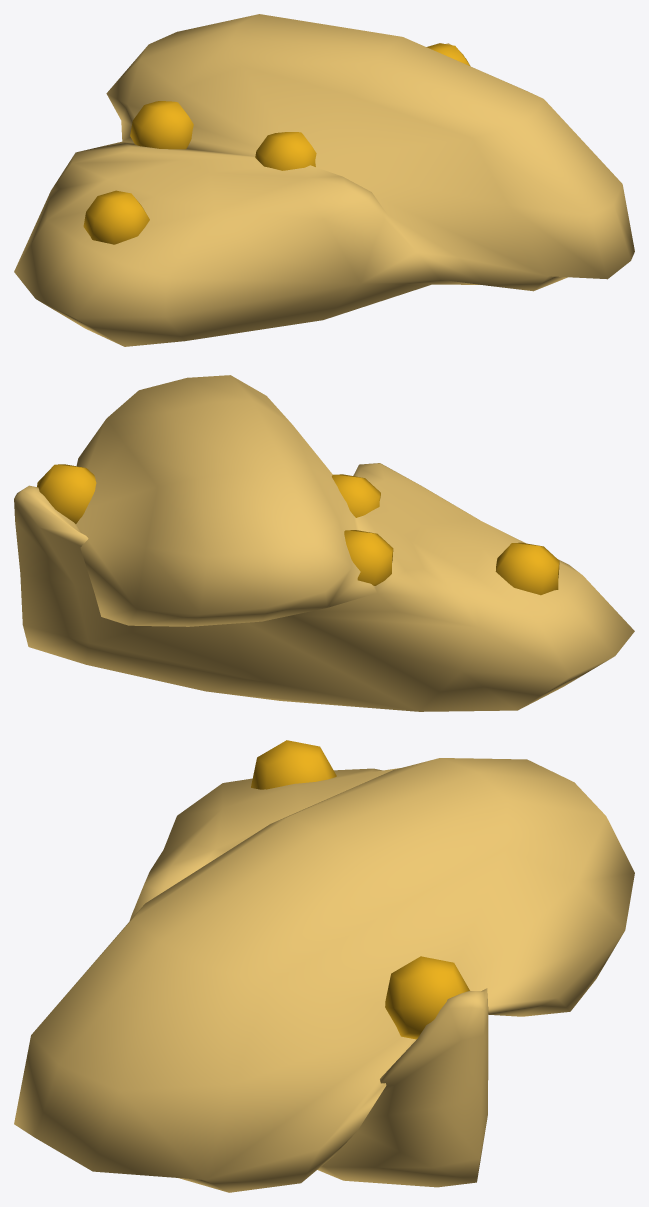
Rendered from rancidTallow.glb.
3 views of the same model, one above another, from view 1: azimuth 30°, elevation 25°; view 2: azimuth 150°, elevation 25°; view 3: azimuth 270°, elevation 25° (orthographic). The views are drawn at different scales.
Parts seen in each view (by area): view 1: Tallow, Cube.003, Cube.001, Cube; view 2: Tallow, Cube.003, Cube.002, Cube.001, Cube; view 3: Tallow, Cube.002, Cube.003.
Part boxes in pixels (<box>): Tallow: <box>14,14,634,346</box>; Cube.003: <box>83,190,149,244</box>; Cube.001: <box>130,101,193,149</box>; Cube: <box>255,132,316,170</box>; Tallow: <box>14,375,634,711</box>; Cube.003: <box>495,542,559,595</box>; Cube.002: <box>37,464,96,523</box>; Cube.001: <box>344,530,393,585</box>; Cube: <box>332,474,380,517</box>; Tallow: <box>14,758,634,1192</box>; Cube.002: <box>385,956,469,1039</box>; Cube.003: <box>251,740,336,789</box>.
Size of the model in its own units: 0.1324 by 0.0509 by 0.0994.
